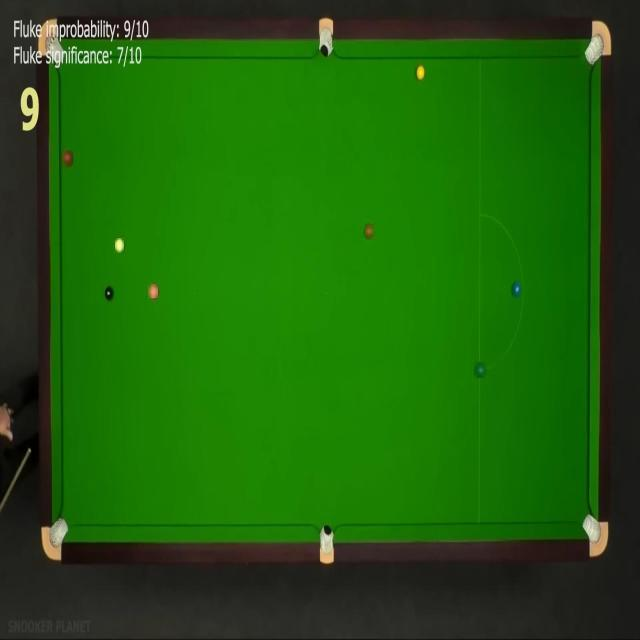Ball: (474, 362, 486, 378), (148, 284, 158, 298), (104, 286, 114, 300), (63, 152, 73, 166), (115, 238, 124, 253), (416, 65, 425, 80), (512, 282, 520, 296), (365, 224, 373, 238)
